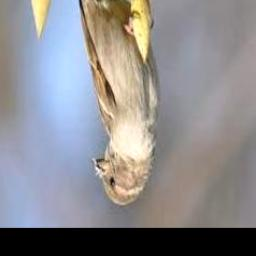Sparrow: (72, 0, 160, 206)
